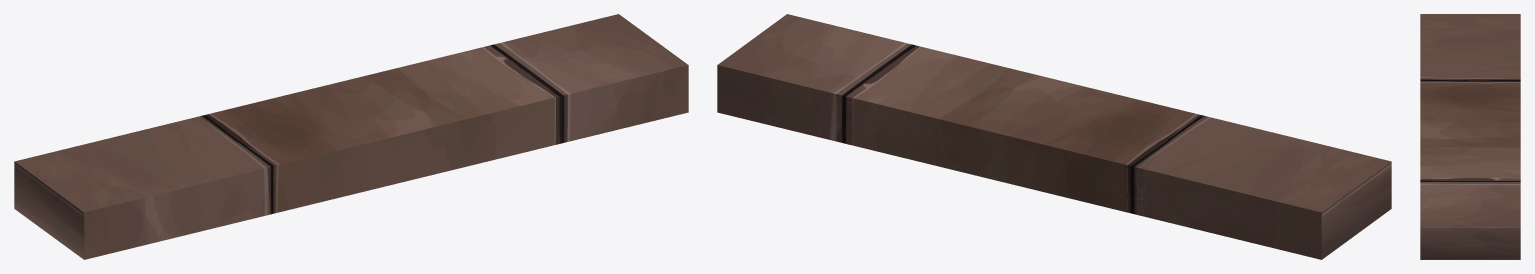
File: Blink.fbx
3 views of the same model, side by side, from view 1: azimuth 30°, elevation 25°; view 2: azimuth 150°, elevation 25°; view 3: azimuth 270°, elevation 25° (orthographic). The views are drawn at different scales.
Parts seen in each view (by area): view 1: Wall; view 2: Wall; view 3: Wall.
Part boxes in pixels (x1,y1,x2,y2): Wall: (14, 14, 688, 259); Wall: (717, 14, 1391, 259); Wall: (1420, 14, 1520, 259).
Bounding box in the file's own units: 200 × 15 × 40.
